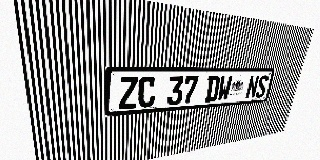3: (167, 76, 184, 105)
7: (182, 76, 199, 104)
C: (138, 76, 156, 108)
D: (204, 76, 221, 102)
N: (245, 75, 260, 99)
S: (255, 75, 269, 98)
W: (217, 76, 233, 101)
Z: (119, 77, 138, 109)
